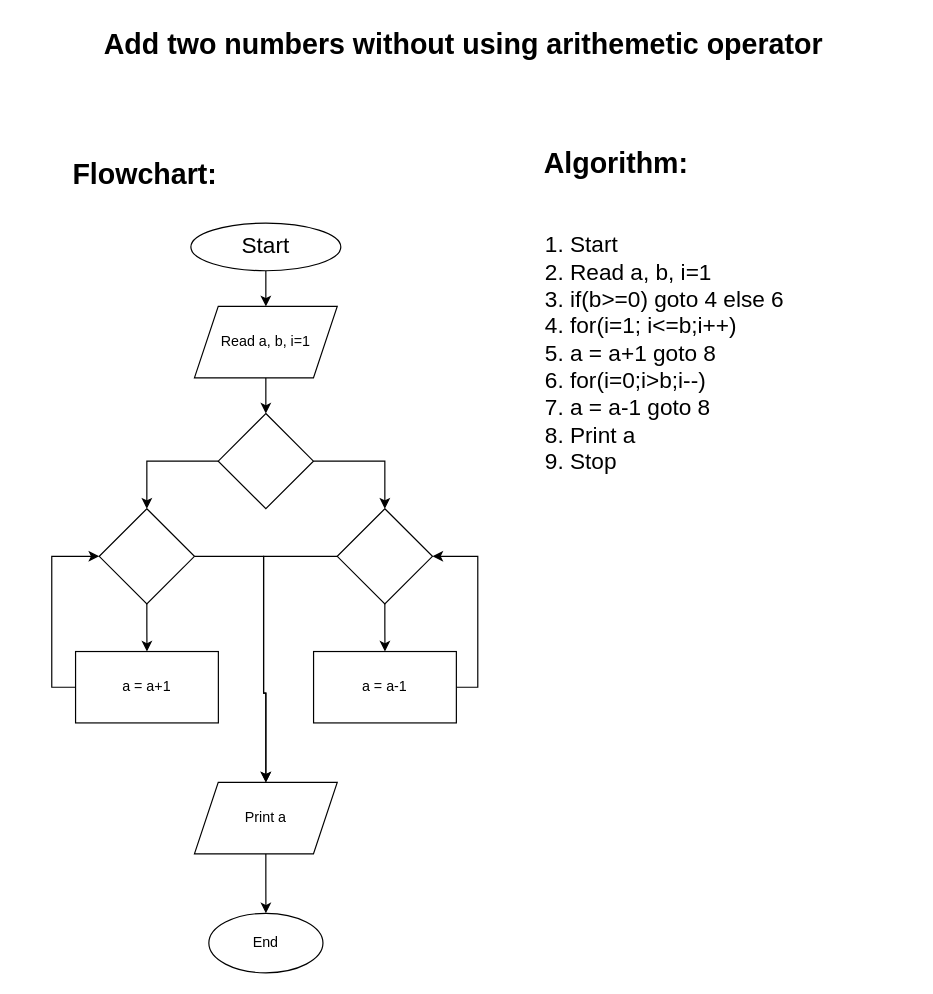
This 933x994 diagram has some shape labels left out. Here are the shapes that lost their labels. From the top down, the box of each, then its label:
(217, 412, 313, 509): if b>=0
(98, 508, 194, 604): for i=1 to i<= b i++
(336, 508, 432, 604): for i=0 to i>b i--
